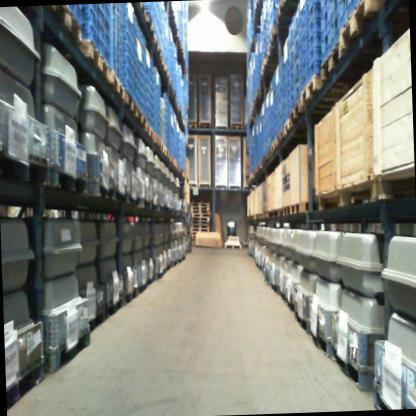pallet: (337, 0, 383, 52), (5, 354, 47, 410), (0, 142, 51, 188), (45, 324, 91, 374), (331, 344, 375, 392), (372, 163, 416, 208), (299, 73, 350, 106), (77, 38, 110, 83), (339, 175, 376, 211), (49, 5, 81, 44), (51, 166, 89, 198), (320, 38, 347, 80), (288, 97, 333, 119), (311, 186, 344, 215), (309, 320, 331, 358), (89, 181, 117, 202), (372, 389, 395, 410), (105, 294, 124, 318), (110, 70, 125, 100), (122, 90, 138, 118), (277, 0, 300, 19), (289, 200, 313, 218), (88, 308, 106, 332), (295, 310, 310, 334), (284, 119, 306, 134), (123, 287, 138, 305), (142, 121, 155, 141), (268, 205, 284, 221), (146, 12, 155, 39), (128, 192, 142, 208), (153, 36, 163, 58), (138, 106, 148, 127), (281, 204, 293, 220), (116, 190, 129, 204), (277, 127, 287, 144), (137, 280, 148, 295), (286, 296, 296, 312), (154, 133, 162, 151), (255, 213, 270, 222), (280, 289, 289, 304), (225, 243, 242, 250), (271, 138, 279, 152), (139, 2, 146, 18), (261, 153, 268, 167), (274, 284, 282, 296), (191, 224, 209, 229), (191, 202, 209, 207), (190, 206, 210, 210), (191, 213, 211, 217), (190, 228, 210, 232), (191, 210, 210, 214), (191, 217, 210, 221), (191, 220, 210, 224), (230, 125, 244, 130), (162, 143, 167, 157), (192, 199, 209, 203), (267, 148, 273, 158), (187, 123, 197, 129), (198, 125, 211, 129), (167, 150, 171, 160), (191, 231, 198, 236), (191, 234, 196, 239)
small_load_carrier: (330, 4, 341, 43), (320, 18, 331, 56), (319, 0, 331, 33), (339, 0, 353, 20), (287, 16, 295, 48), (288, 54, 295, 90), (288, 36, 295, 70), (289, 80, 297, 108), (294, 49, 301, 80), (294, 24, 300, 55), (295, 70, 301, 100), (294, 3, 300, 30), (330, 0, 340, 16), (320, 0, 330, 11)
